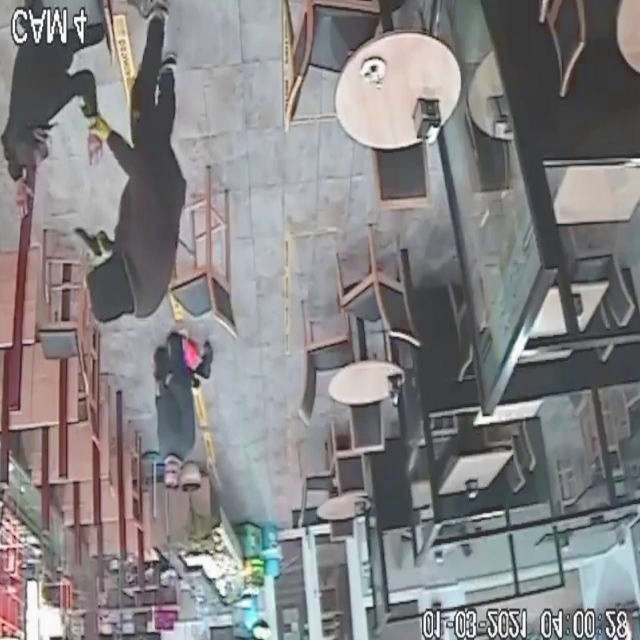gun: (65, 213, 112, 265)
